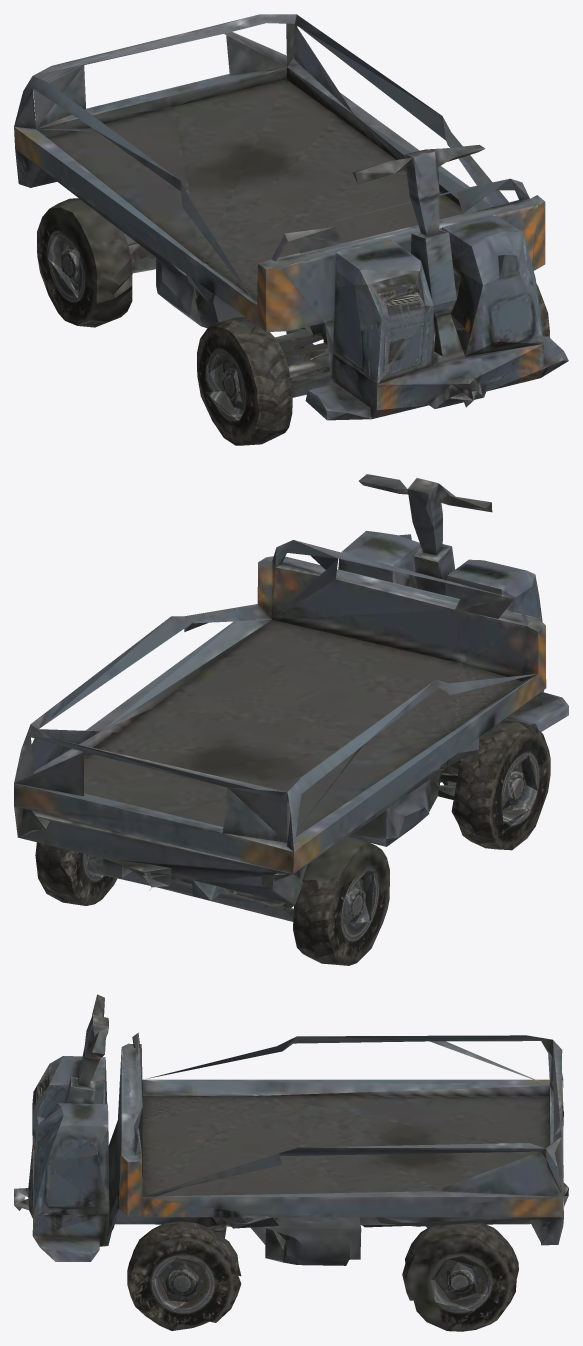
The model's file is cart.glb.
3 renders of one model, top to bottom at view 1: azimuth 30°, elevation 25°; view 2: azimuth 150°, elevation 25°; view 3: azimuth 270°, elevation 25°, orthographic. The views are drawn at different scales.
Parts seen in each view (by area): view 1: Mesh_0; view 2: Mesh_0; view 3: Mesh_0.
Part boxes in pixels (bbox=[...]): Mesh_0: bbox=[14, 14, 568, 445]; Mesh_0: bbox=[14, 474, 568, 965]; Mesh_0: bbox=[14, 994, 568, 1331].
Bounding box in the file's own units: 1.28 × 1.22 × 2.4.
1 material, 1 textured.
